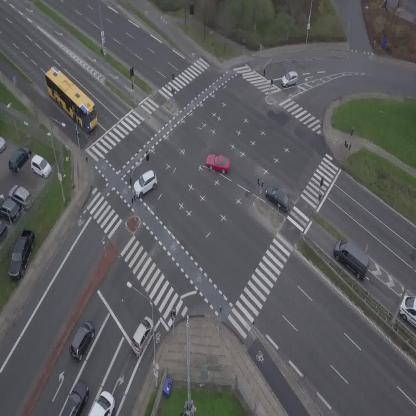bus: (36, 64, 107, 134)
car: (64, 318, 100, 362), (125, 314, 159, 357), (60, 379, 94, 416), (128, 168, 162, 200), (261, 182, 295, 213), (204, 151, 232, 174), (280, 70, 300, 88)
lorry: (327, 234, 378, 283), (89, 389, 119, 416), (398, 295, 416, 328)
